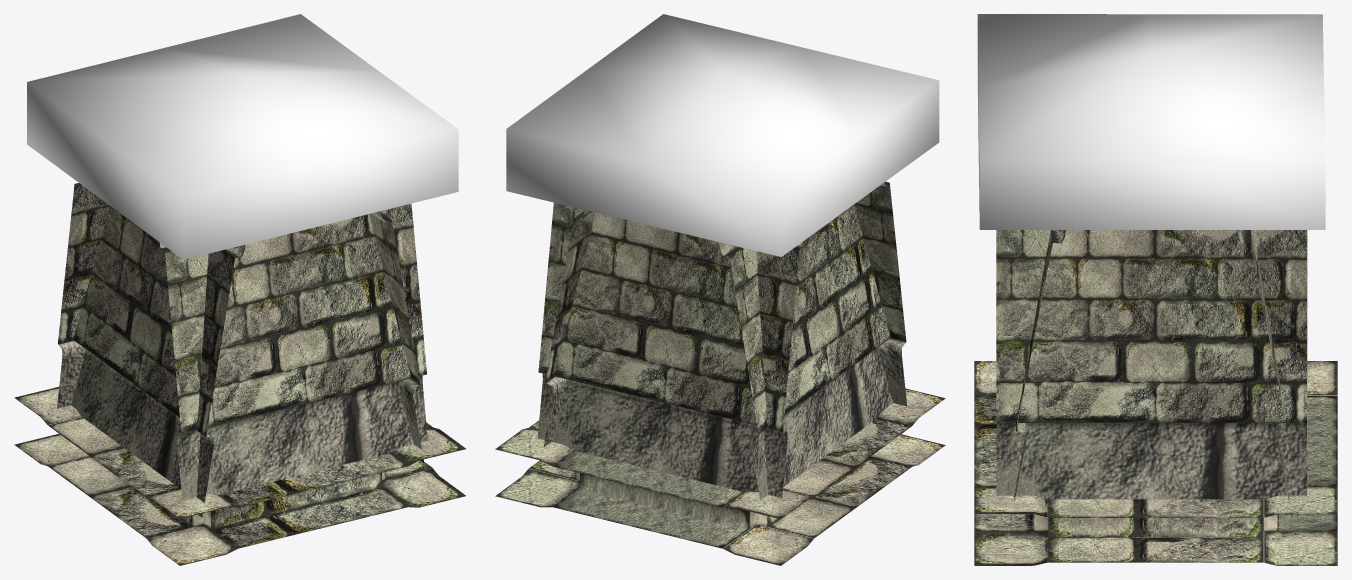
Rendered from lightWell.fbx.
3 views of the same model, side by side, from view 1: azimuth 30°, elevation 25°; view 2: azimuth 150°, elevation 25°; view 3: azimuth 270°, elevation 25° (orthographic). The views are drawn at different scales.
Visible parts, largest first — view 1: Stairs_Better_004; view 2: Stairs_Better_004; view 3: Stairs_Better_004.
Boxes of the visible parts, x1,y1,x2,y2 form: Stairs_Better_004: (14,14,466,565); Stairs_Better_004: (495,14,945,565); Stairs_Better_004: (974,14,1337,565).
Size of the model in its own units: 1 by 1.32 by 1.
